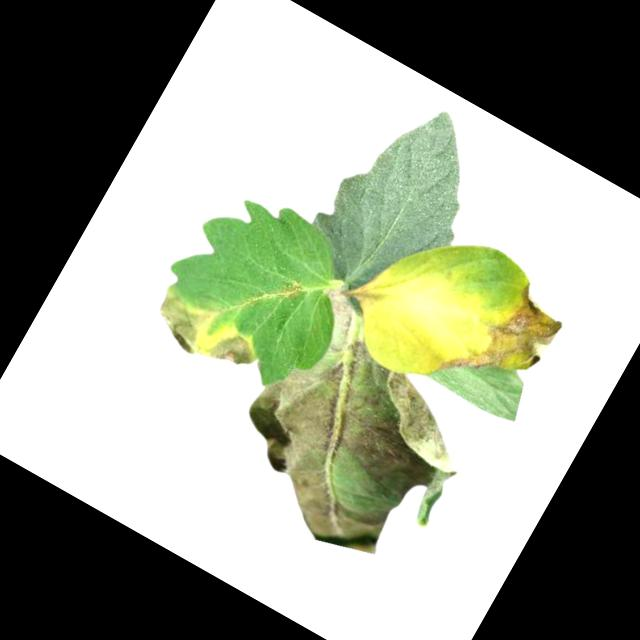Late_blight: (208, 310, 490, 584), (431, 264, 574, 421), (144, 280, 270, 383), (314, 281, 367, 334), (275, 274, 308, 308)
healthy: (291, 80, 507, 322)
